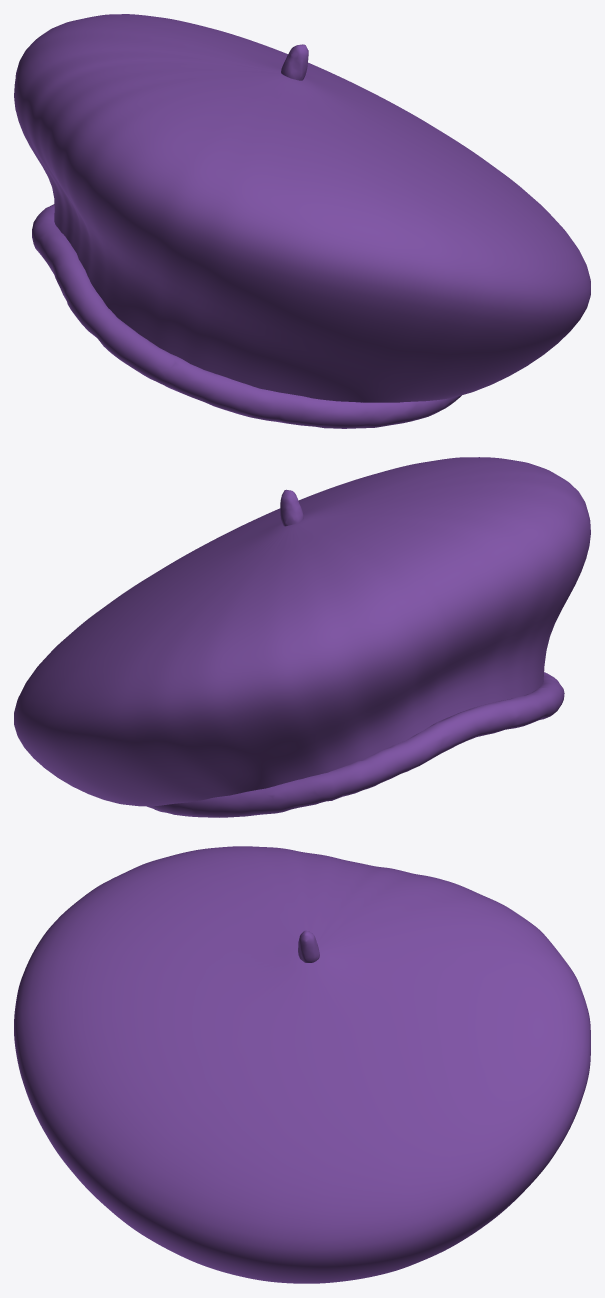
The model's file is beret_f.glb.
3 renders of one model, top to bottom at view 1: azimuth 30°, elevation 25°; view 2: azimuth 150°, elevation 25°; view 3: azimuth 270°, elevation 25°, orthographic. The views are drawn at different scales.
Visible parts, largest first — view 1: Acc_beret_Beret, Acc_beret_BeretBand, Acc_beret_BeretStalk; view 2: Acc_beret_Beret, Acc_beret_BeretBand, Acc_beret_BeretStalk; view 3: Acc_beret_Beret, Acc_beret_BeretStalk.
Part boxes in pixels (<box>): Acc_beret_Beret: <box>14,14,590,402</box>; Acc_beret_BeretBand: <box>32,204,461,428</box>; Acc_beret_BeretStalk: <box>281,44,308,80</box>; Acc_beret_Beret: <box>14,457,590,806</box>; Acc_beret_BeretBand: <box>147,672,564,817</box>; Acc_beret_BeretStalk: <box>280,489,303,526</box>; Acc_beret_Beret: <box>14,846,590,1283</box>; Acc_beret_BeretStalk: <box>298,930,319,962</box>.
Size of the model in its own units: 0.4072 by 0.2577 by 0.4733.
